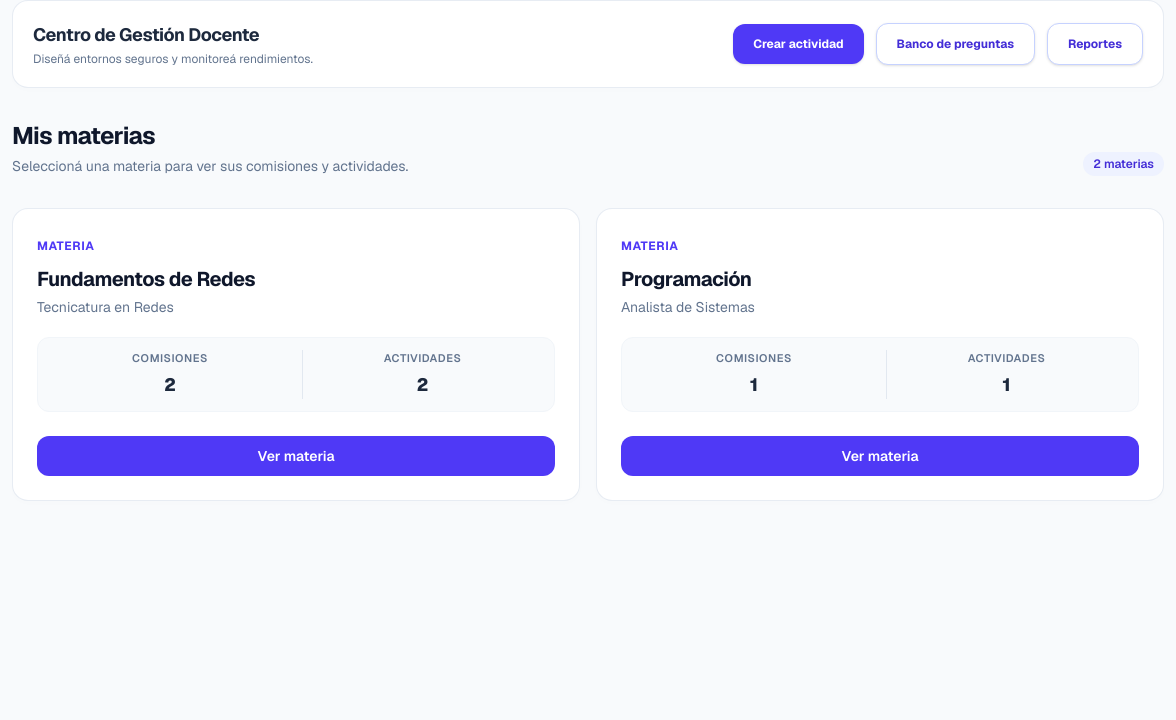
Scenario: TeacherEvaluationsExplorer › muestra comisiones antes que actividades cuando una materia tiene varias
The image size is (1176, 720).
Click the button "Ver materia" below "Tecnicatura en Redes": (296, 456) [37,436,555,476]
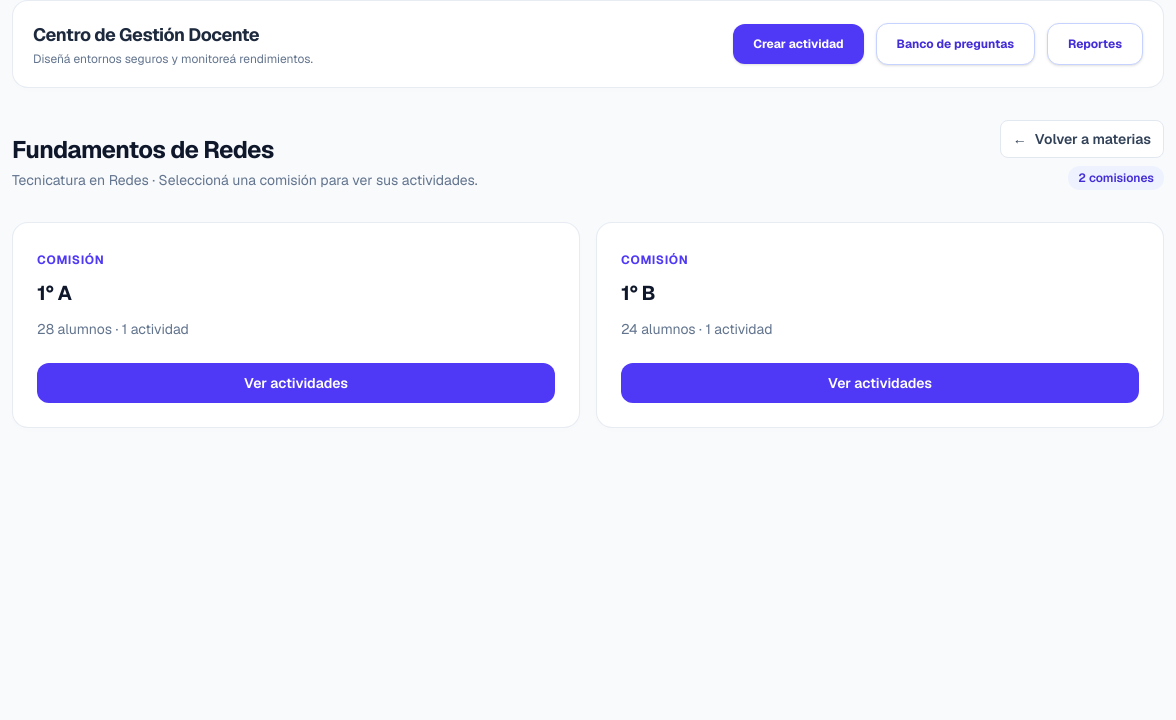
Now the heading "1° A" is shown, box [37,280,72,306]
Now the heading "1° B" is shown, box [621,280,655,306]
Now the text "2 comisiones" is shown, box [1068,166,1164,190]
